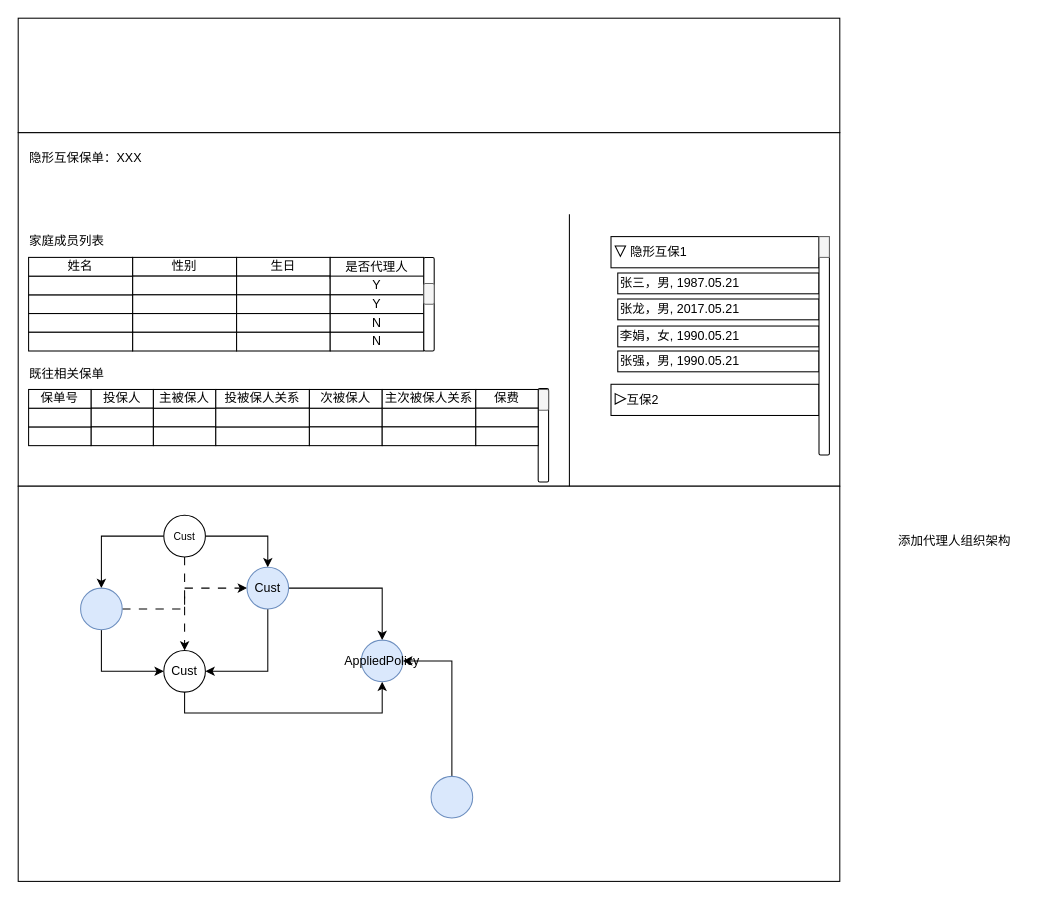
This 1040x900 diagram has some shape labels left out. Each missing label, with the centre of its shape:
Agent: point (451, 796)
Cust Agent: point (101, 608)
代理人：XXX: point (428, 75)
